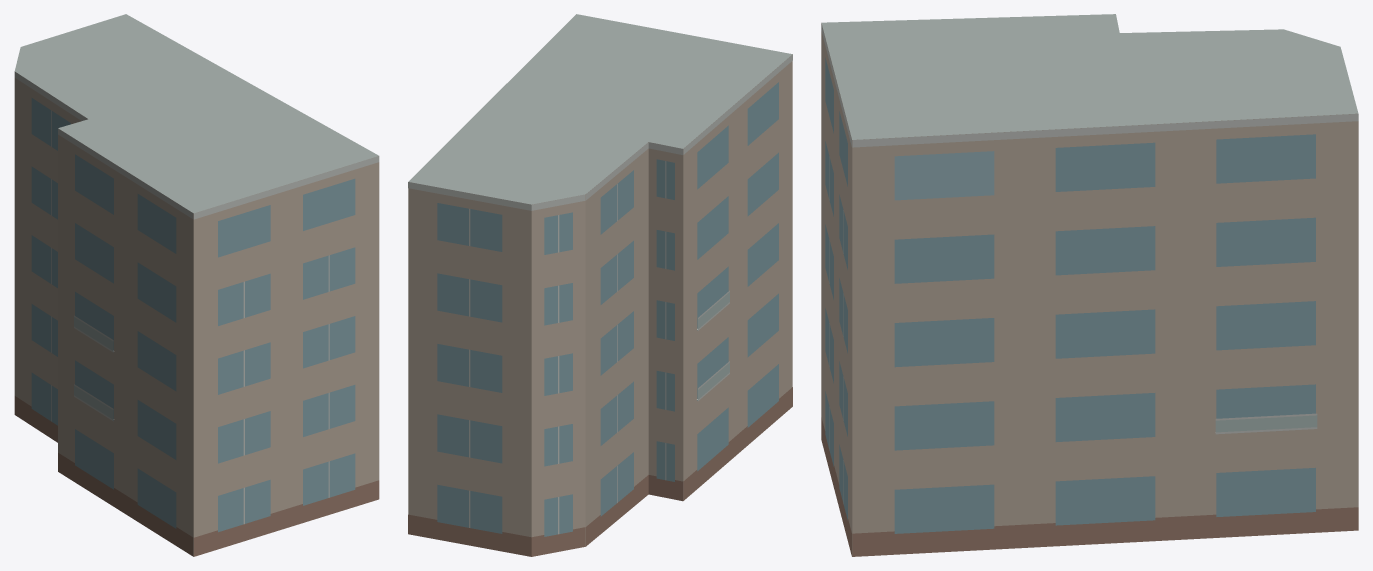
Rendered from survey-upis-32986457.glb.
3 views of the same model, side by side, from view 1: azimuth 30°, elevation 25°; view 2: azimuth 150°, elevation 25°; view 3: azimuth 270°, elevation 25° (orthographic). The views are drawn at different scales.
Visible parts, largest first — view 1: survey-upis-32986457.tmp; view 2: survey-upis-32986457.tmp; view 3: survey-upis-32986457.tmp.
Boxes of the visible parts, x1,y1,x2,y2 form: survey-upis-32986457.tmp: (14, 14, 379, 556); survey-upis-32986457.tmp: (408, 14, 792, 556); survey-upis-32986457.tmp: (821, 14, 1358, 556).
Size of the model in its own units: 8.76 by 13.5 by 15.78.
